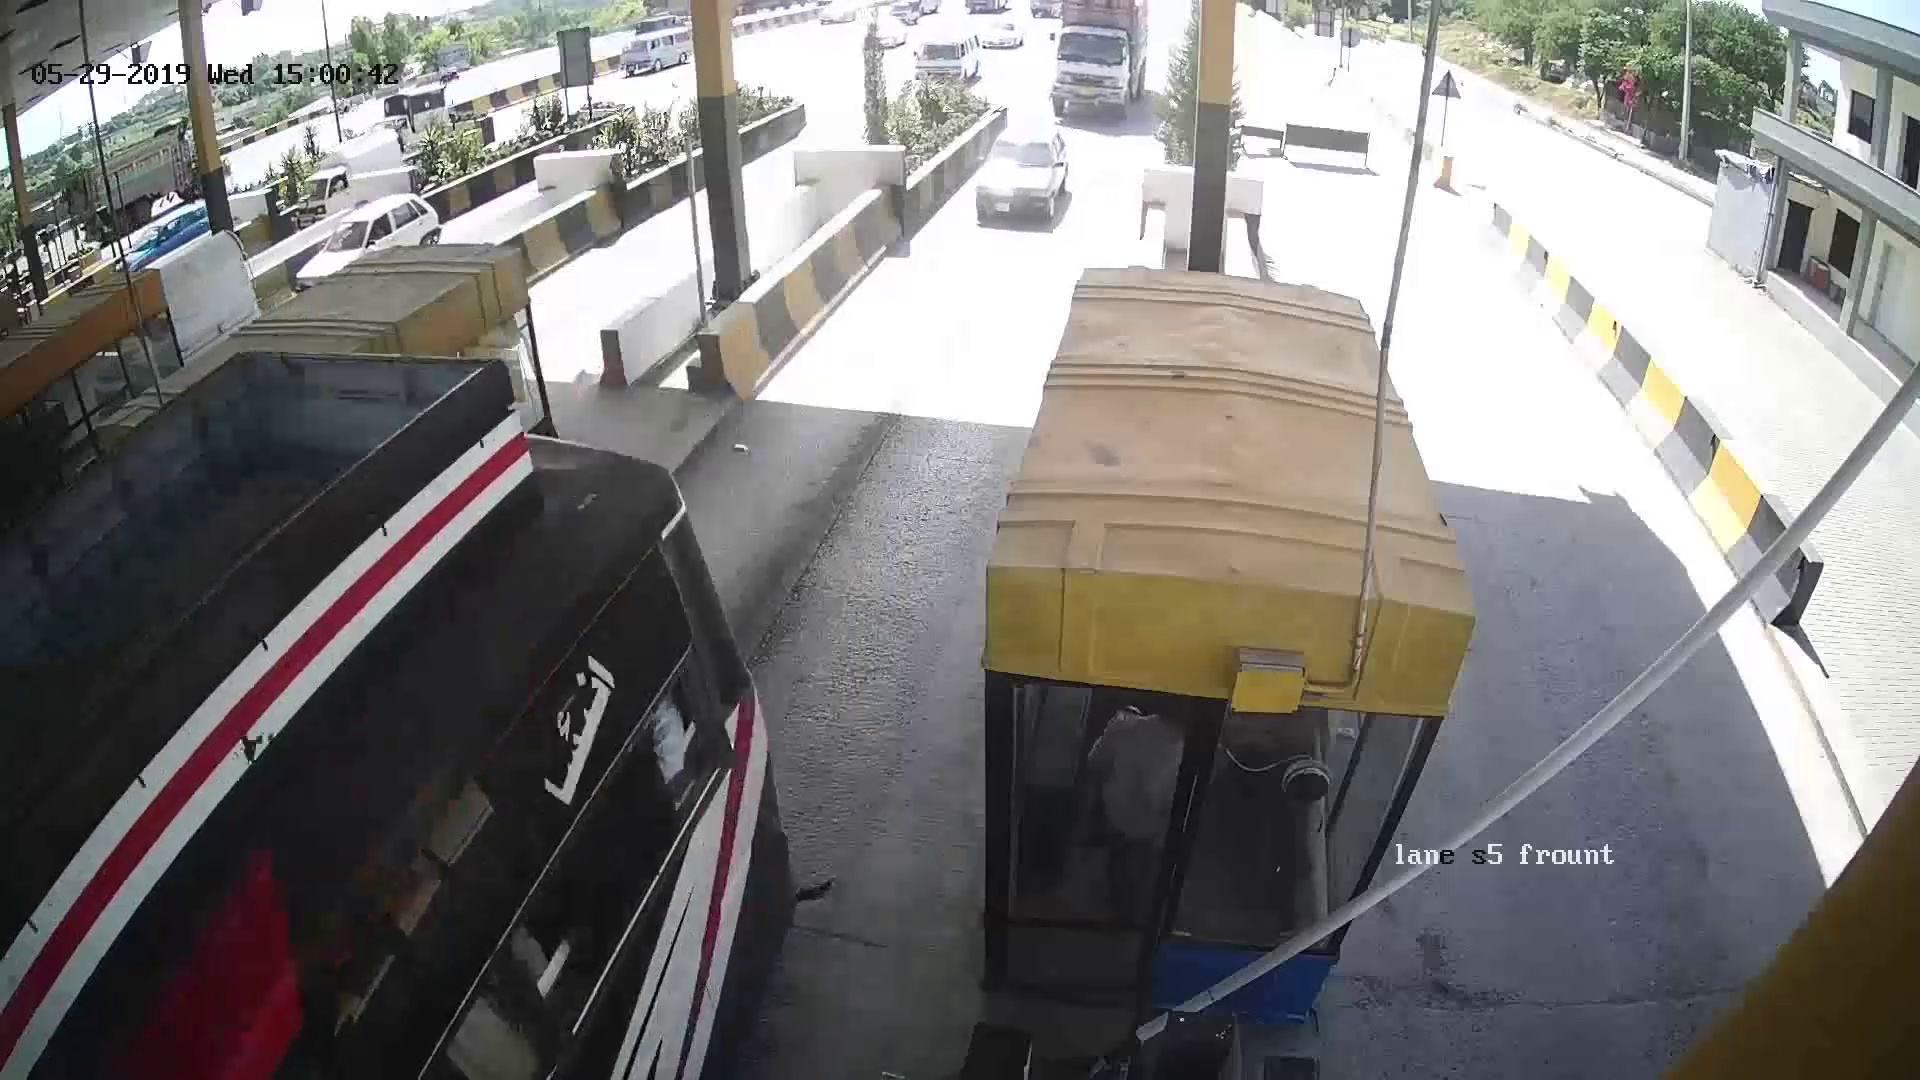bus: (161, 661, 767, 948)
car: (975, 148, 1080, 235)
truck: (1048, 13, 1145, 123)
